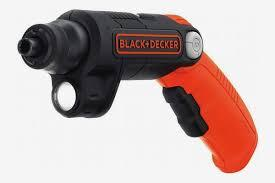screwdriver: (17, 9, 256, 172)
